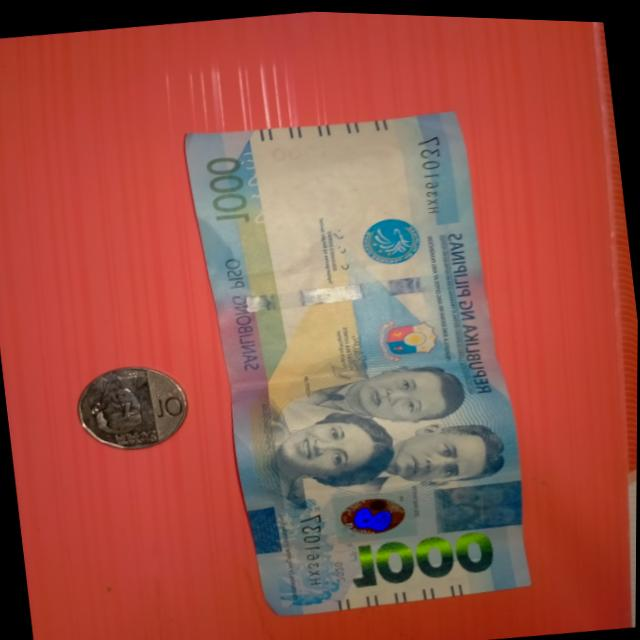concealed_value: (426, 472, 527, 530)
optically_variable_device: (326, 481, 419, 543)
security_thread: (231, 138, 280, 232)
value_watermark: (259, 130, 335, 165)
watermark: (256, 123, 447, 253)
